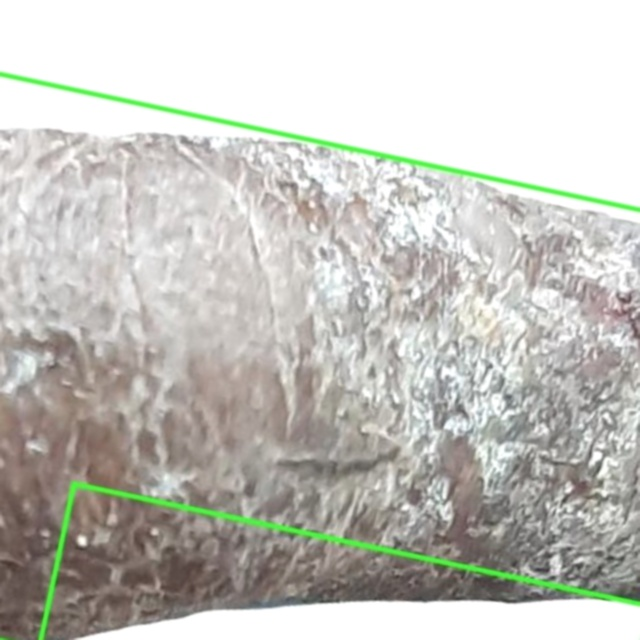Eczema: (0, 75, 639, 639)
